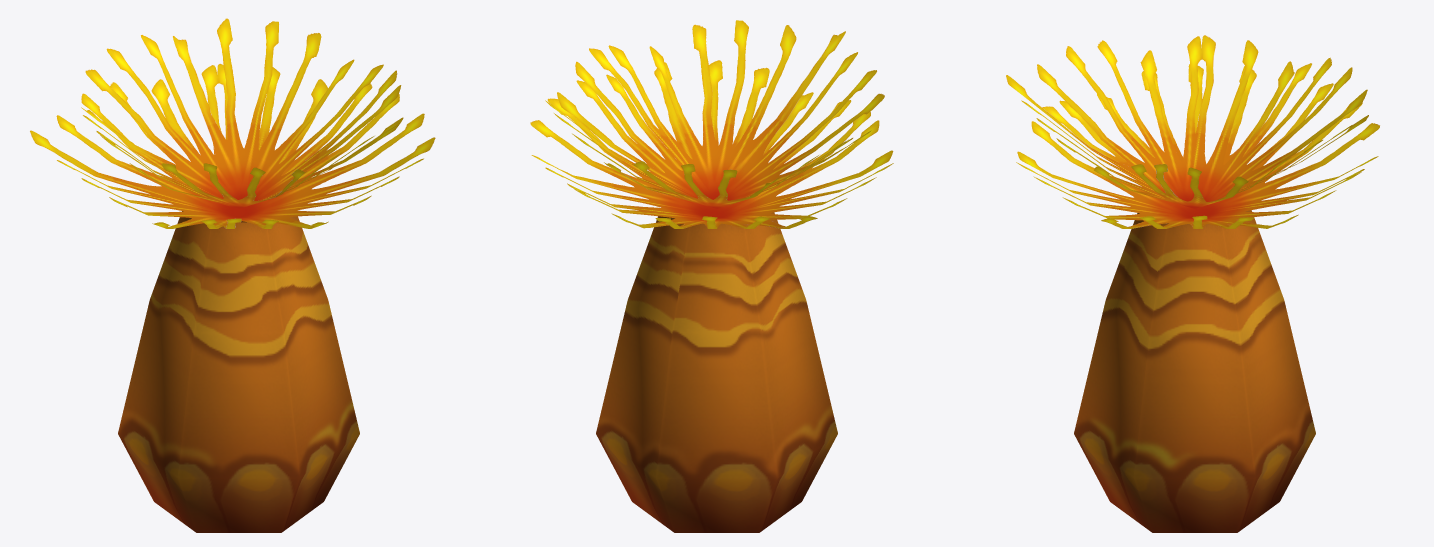
Rendered from Coral_33.FBX.
The picture shows the model from 3 angles, left to right: view 1: azimuth 30°, elevation 25°; view 2: azimuth 150°, elevation 25°; view 3: azimuth 270°, elevation 25°; orthographic projection.
Visible parts, largest first — view 1: Coral_33; view 2: Coral_33; view 3: Coral_33.
Boxes of the visible parts, x1=… form: Coral_33: x1=30, y1=18, x2=435, y2=532; Coral_33: x1=530, y1=20, x2=893, y2=532; Coral_33: x1=1006, y1=35, x2=1379, y2=532.
Size of the model in its own units: 50.99 by 59.19 by 58.88.
